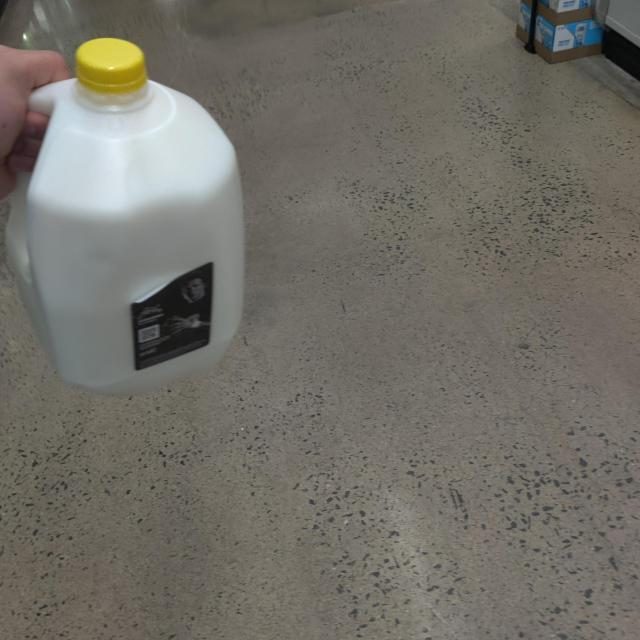Milk: (0, 41, 253, 390)
